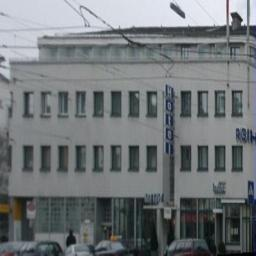building: (11, 22, 256, 241)
